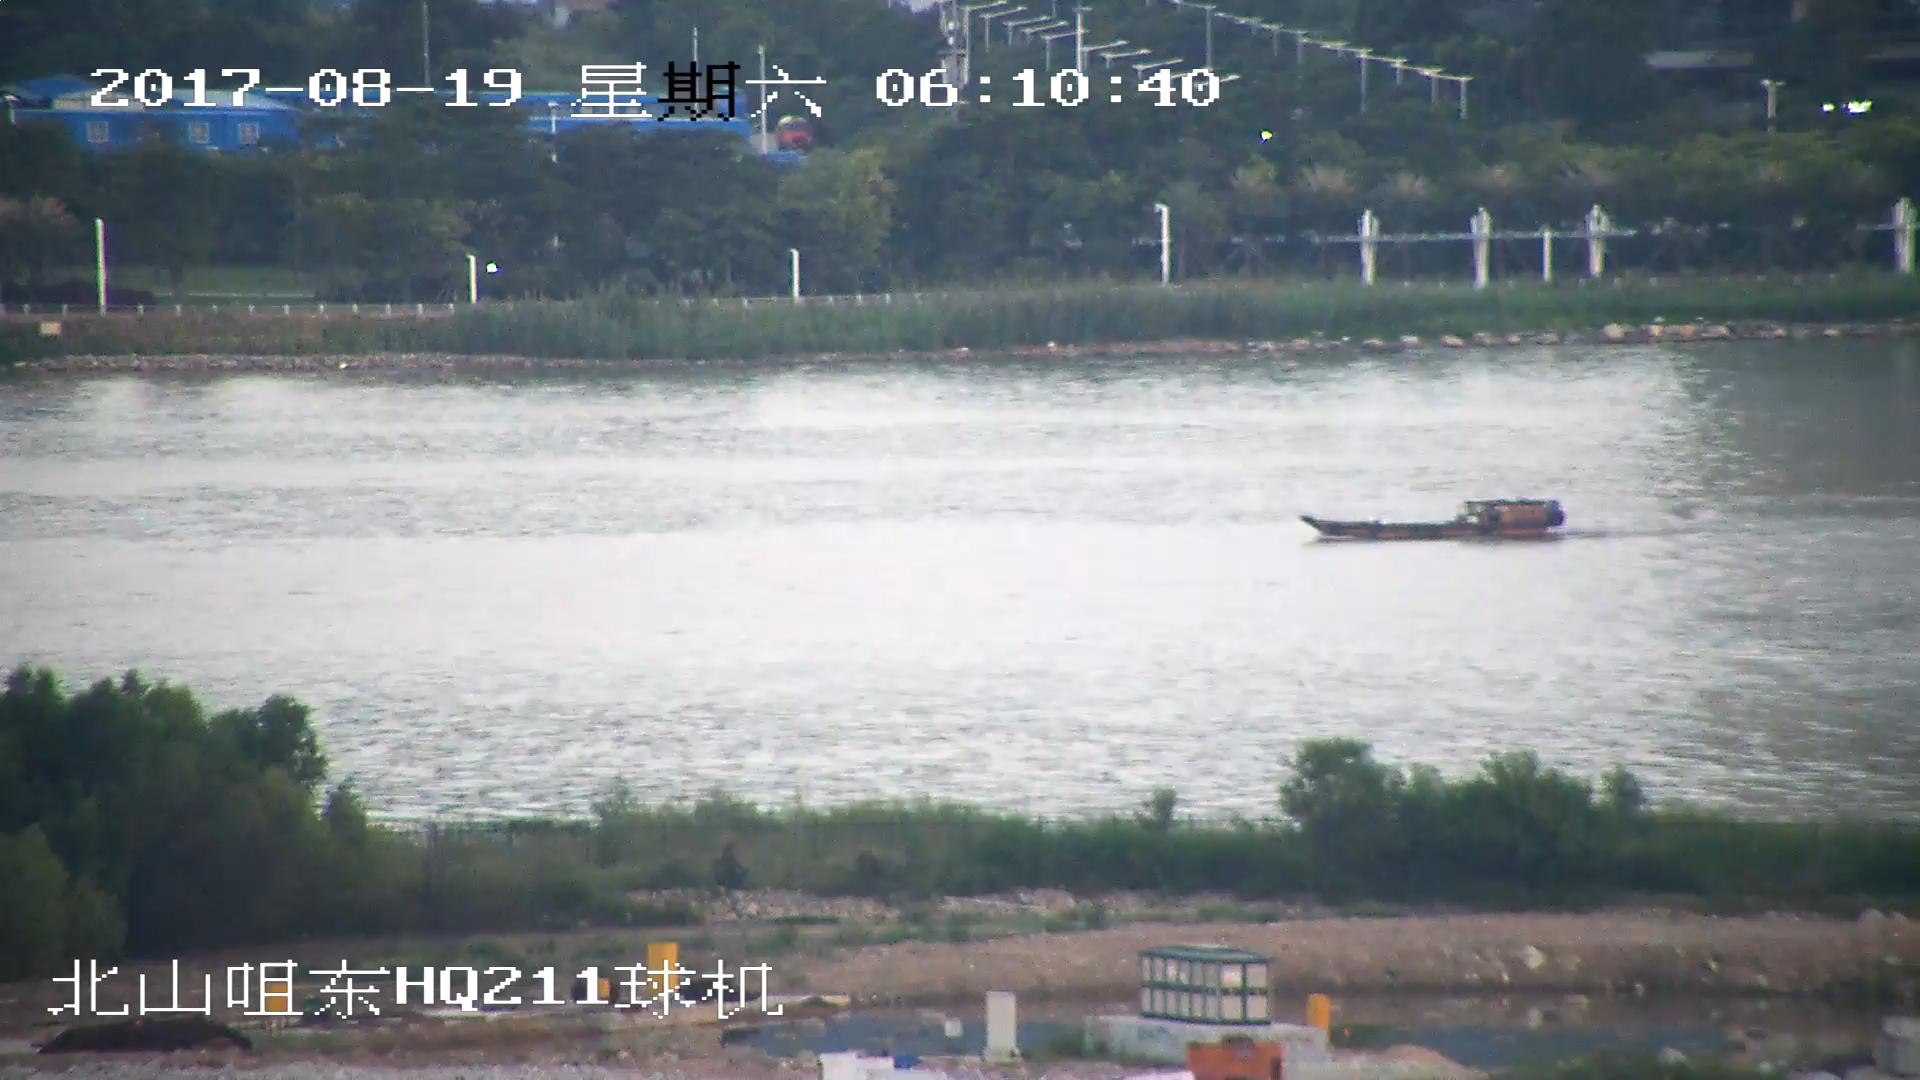fishing boat: (1298, 494, 1563, 538)
